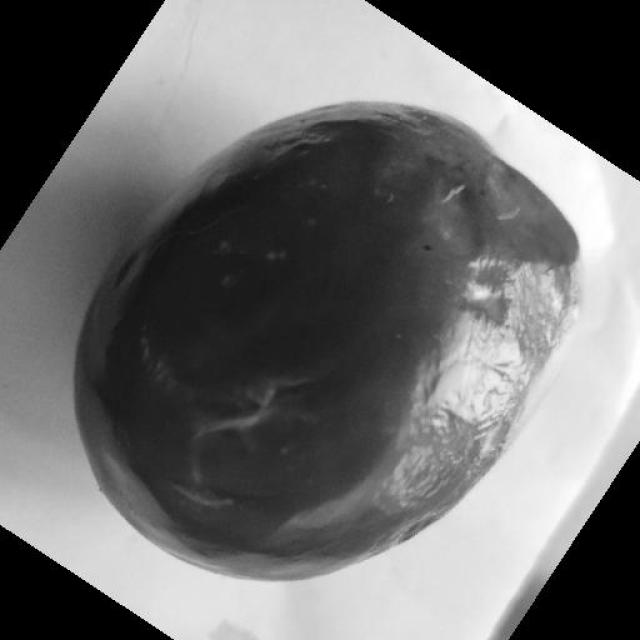Stale_tomato: (75, 133, 574, 570)
